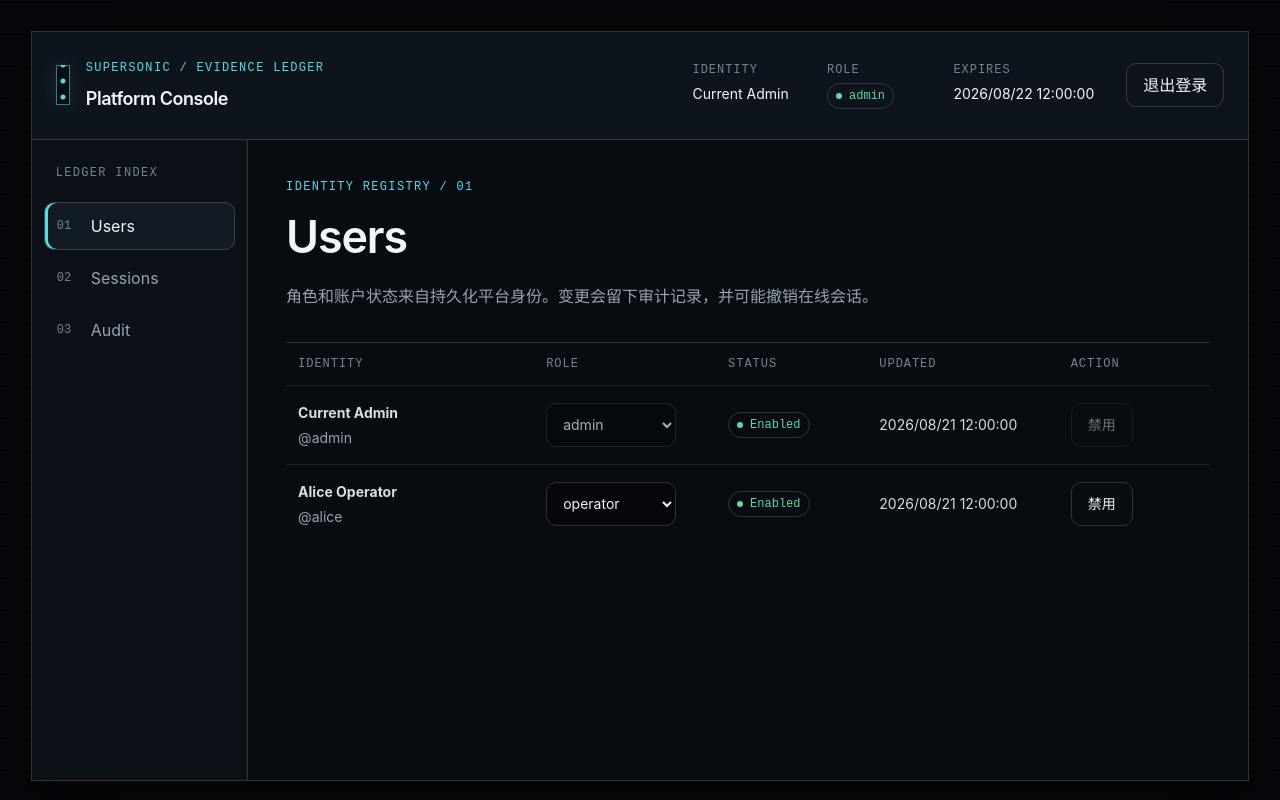
Test: PlatformConsole › reports committed degraded propagation with exact failed realtime session ids
The image size is (1280, 800).
Click the button with aria-label "禁用 Alice Operator". click: (1102, 504)
box: left=1071, top=482, right=1133, bottom=526
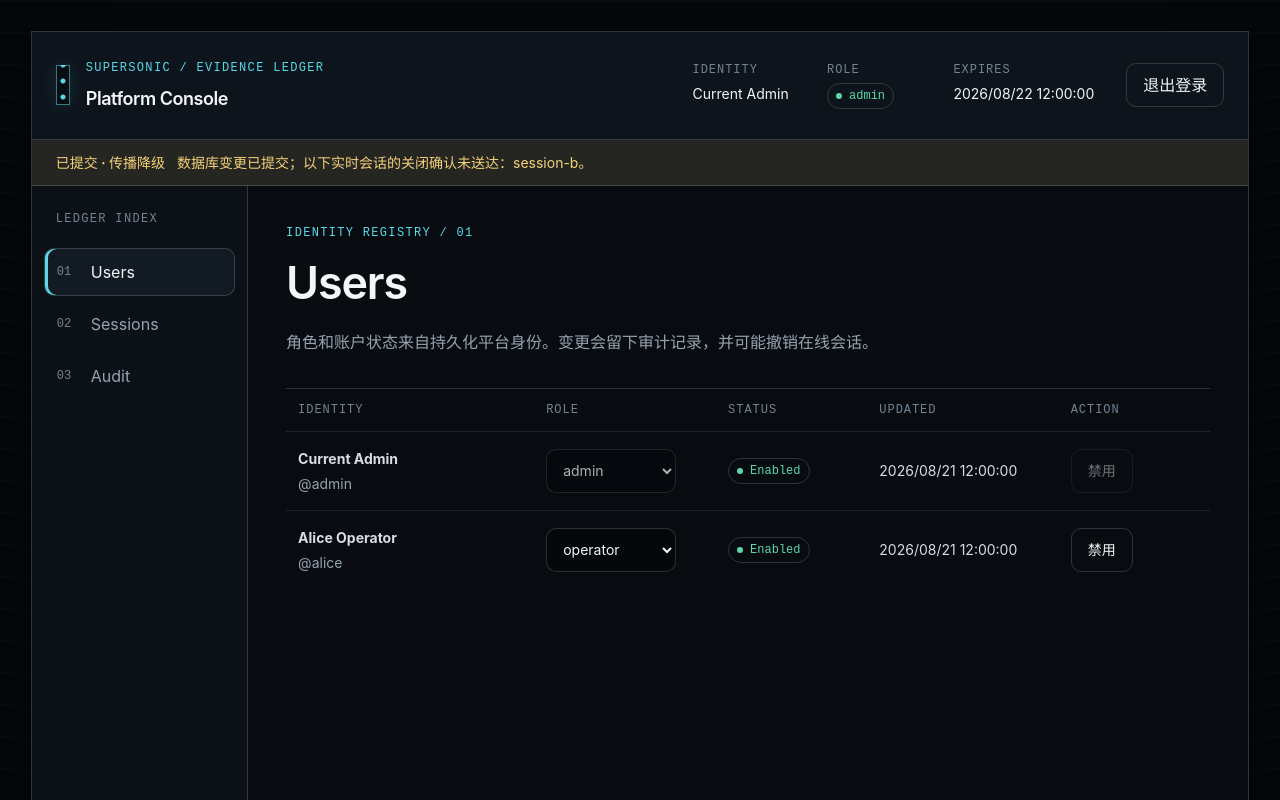
Expected: the message does not show "失败，已回滚", left=32, top=140, right=1248, bottom=186
Expected: the message shows "数据库变更已提交", left=177, top=154, right=592, bottom=171
Expected: the message shows "session-b", left=177, top=154, right=592, bottom=171
